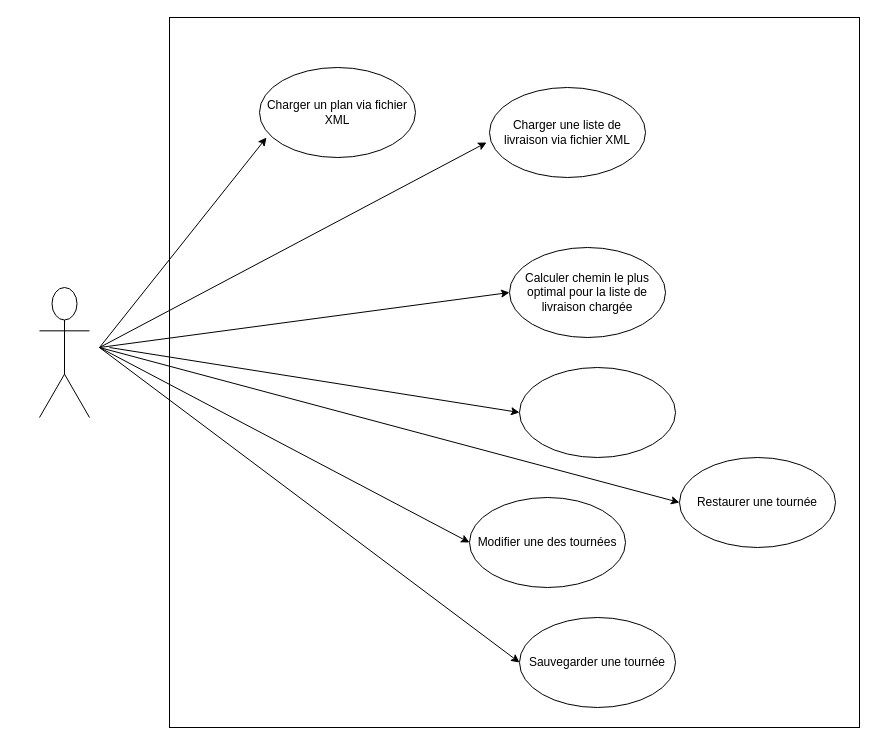
This 877x745 diagram has some shape labels left out. Each missing label, with the centre of its shape:
Modifier nombre de coursiers: pixel 597 412
Tournée manager: pixel 64 352
